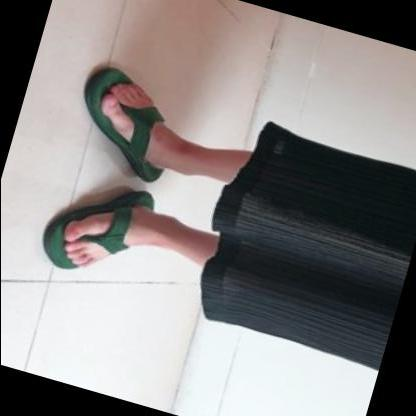no_safety-shoe: (28, 47, 204, 192), (12, 156, 180, 293)
